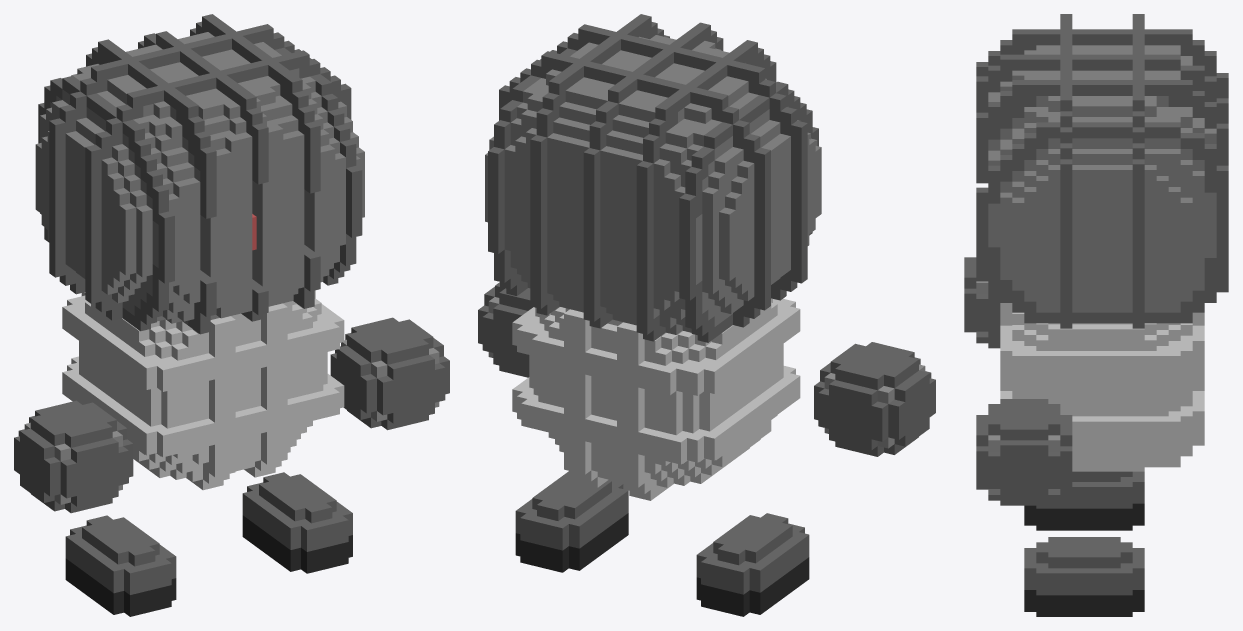
The model's file is Knight.fbx.
3 views of the same model, side by side, from view 1: azimuth 30°, elevation 25°; view 2: azimuth 150°, elevation 25°; view 3: azimuth 270°, elevation 25° (orthographic). The views are drawn at different scales.
Parts seen in each view (by area): view 1: knightazzo_del_cazzo_mappato; view 2: knightazzo_del_cazzo_mappato; view 3: knightazzo_del_cazzo_mappato.
Part boxes in pixels (x1,y1,x2,y2): knightazzo_del_cazzo_mappato: (14, 14, 449, 616); knightazzo_del_cazzo_mappato: (478, 14, 935, 616); knightazzo_del_cazzo_mappato: (964, 14, 1228, 616).
Bounding box in the file's own units: 3.9 × 4.6 × 2.2.
